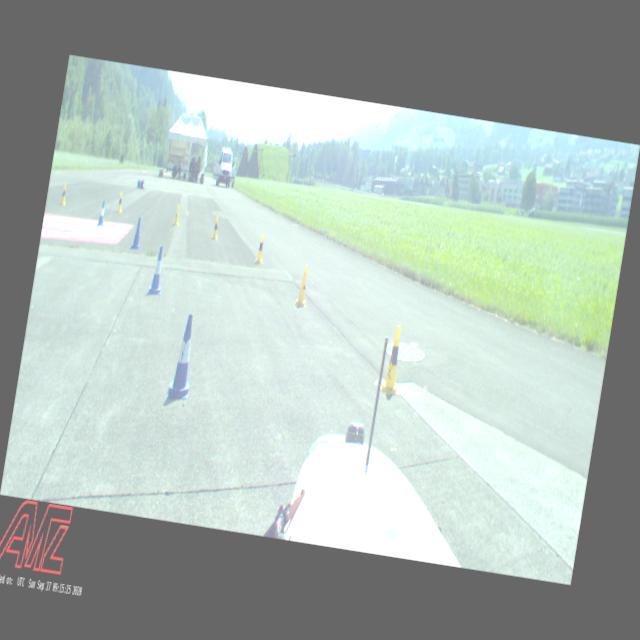blue_cone: (167, 312, 200, 401), (148, 245, 168, 296), (130, 216, 145, 251), (96, 200, 108, 227)
yellow_cone: (380, 324, 410, 396), (294, 264, 313, 308), (255, 233, 268, 264), (211, 215, 221, 240), (173, 205, 182, 228), (116, 192, 125, 214), (60, 183, 68, 206)
